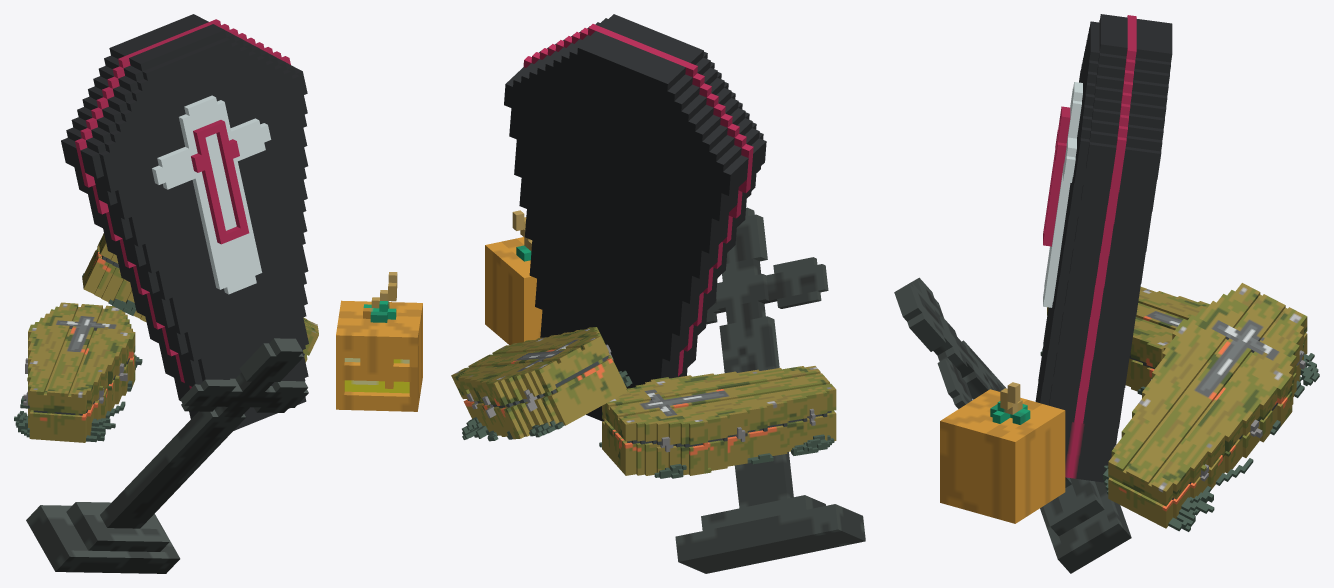
File: Skeleton_Home_Comp.fbx
3 renders of one model, left to right at view 1: azimuth 30°, elevation 25°; view 2: azimuth 150°, elevation 25°; view 3: azimuth 270°, elevation 25°, orthographic. The views are drawn at different scales.
Visible parts, largest first — view 1: Matrix; view 2: Matrix; view 3: Matrix.
Part boxes in pixels (<box>): Matrix: <box>14,14,422,573</box>; Matrix: <box>451,14,865,573</box>; Matrix: <box>894,14,1319,573</box>.
Size of the model in its own units: 51.19 by 69.45 by 47.11.
5 materials, 5 textured.
